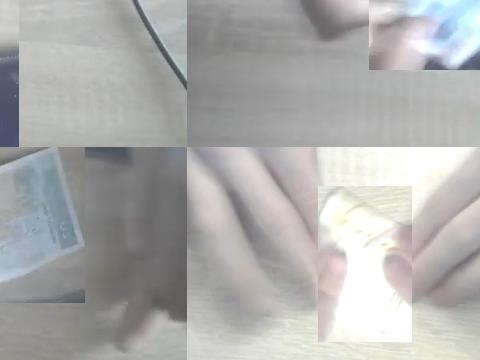10leva: (318, 186, 412, 342)
